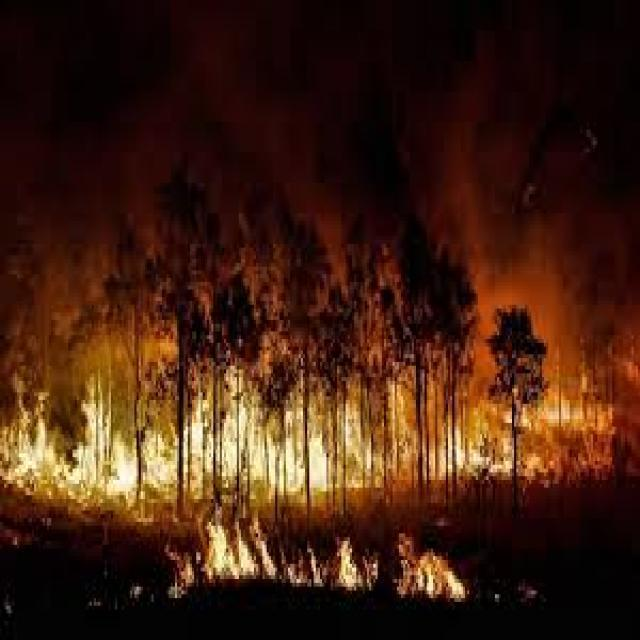Fire: (3, 163, 640, 483), (2, 330, 640, 508), (200, 408, 341, 483), (203, 523, 367, 586), (91, 415, 160, 479), (397, 547, 471, 600)
Smoke: (0, 8, 640, 204)
